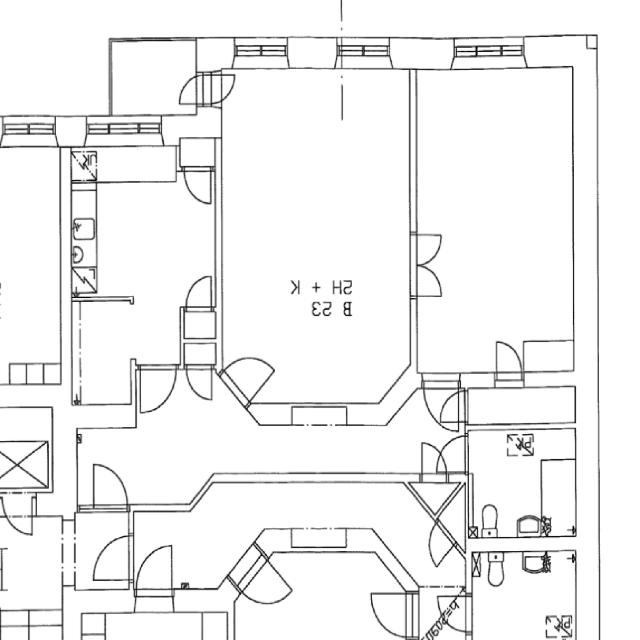door: (411, 226, 447, 299), (89, 528, 133, 586), (226, 354, 278, 398), (368, 590, 413, 640), (135, 363, 178, 415), (136, 540, 176, 595), (90, 459, 131, 512), (425, 433, 468, 474), (0, 490, 37, 537), (492, 336, 526, 381), (416, 437, 451, 480), (182, 270, 216, 313), (435, 387, 468, 427), (182, 166, 215, 204), (184, 363, 215, 403), (439, 594, 469, 635), (210, 68, 238, 105), (175, 73, 202, 107)
window: (78, 112, 166, 142), (451, 37, 528, 68), (334, 37, 396, 69), (0, 113, 60, 145), (233, 38, 291, 68), (406, 294, 422, 368), (187, 478, 211, 506)
zone: (217, 58, 414, 375), (416, 53, 575, 370), (64, 145, 215, 302), (466, 399, 575, 544), (0, 147, 62, 392), (472, 547, 578, 640), (1, 511, 66, 640), (73, 300, 137, 409), (110, 38, 196, 116), (464, 378, 574, 432), (135, 541, 175, 597), (180, 308, 218, 346), (290, 404, 348, 428)
